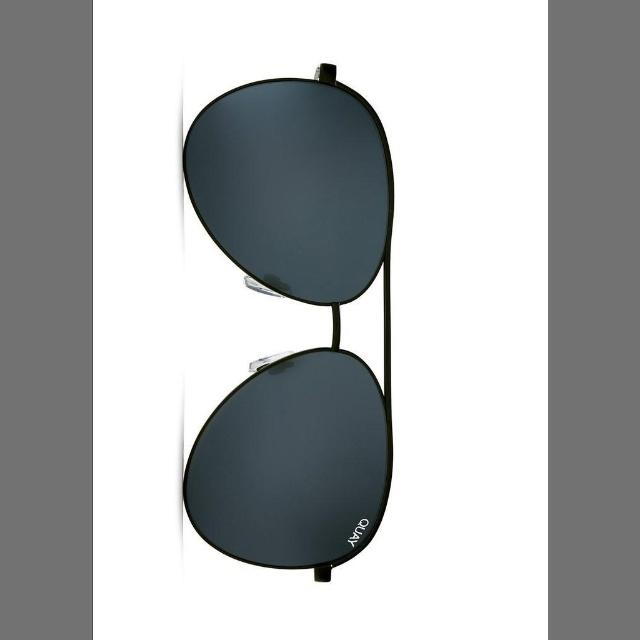Sunglasses: (152, 47, 424, 609)
